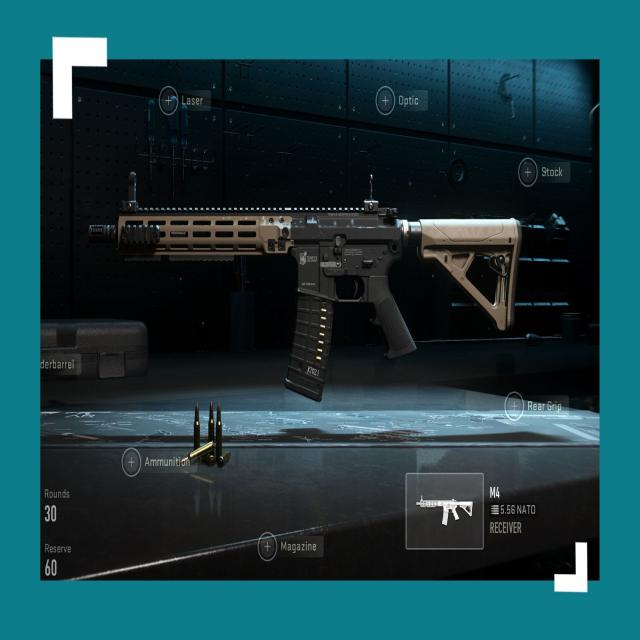Rifle: (90, 172, 522, 401)
